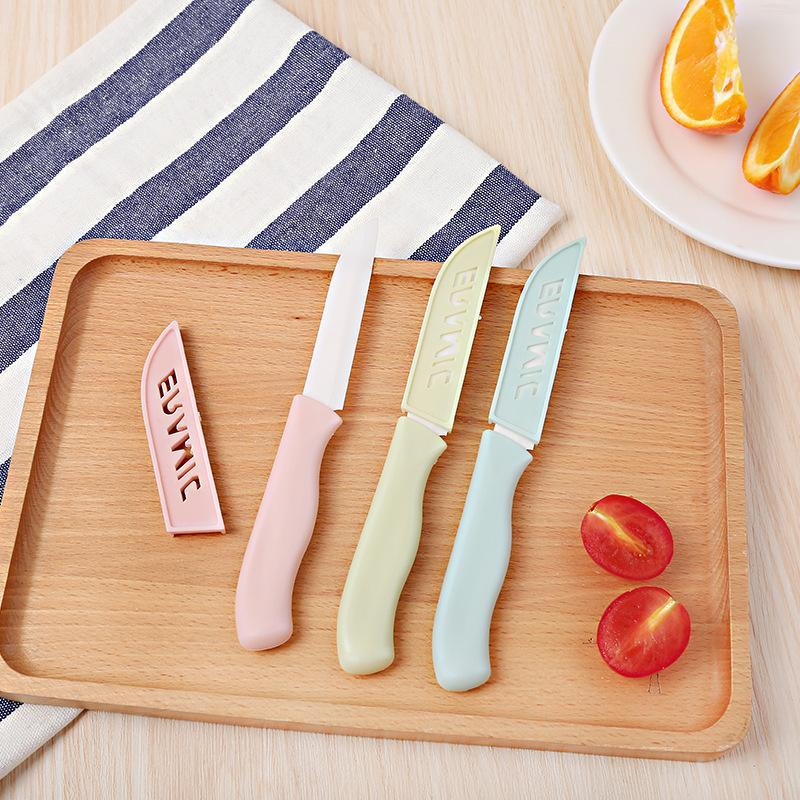apple: (594, 585, 689, 678)
